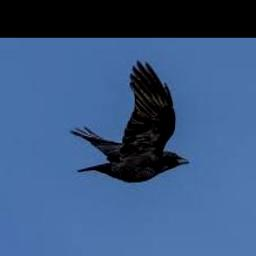Crow: (70, 61, 190, 182)
